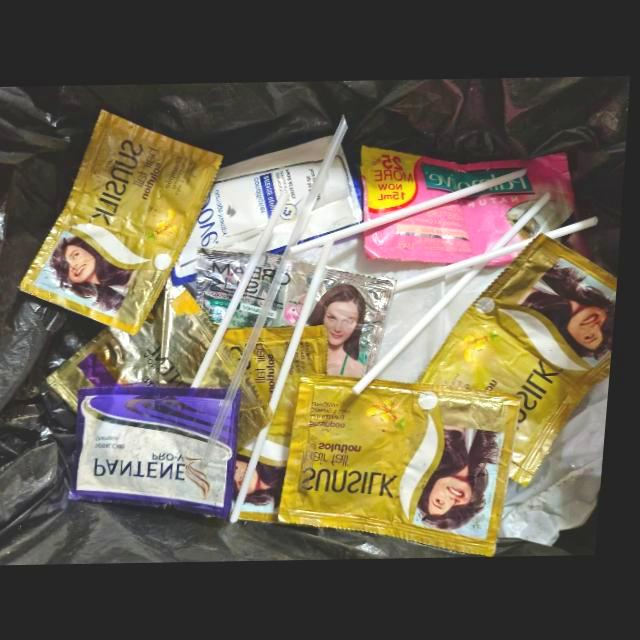plastic_sachet: (51, 266, 282, 507), (421, 231, 621, 488), (22, 109, 226, 336), (286, 372, 527, 554), (174, 121, 365, 285), (365, 145, 589, 265), (198, 247, 400, 376), (78, 384, 248, 518)
